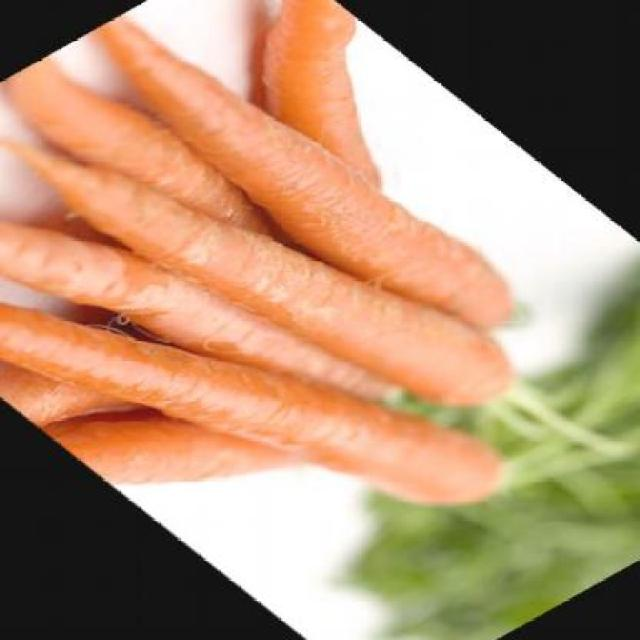carrot: (0, 148, 526, 615), (0, 49, 540, 466), (60, 0, 546, 357), (0, 82, 392, 491), (0, 46, 297, 277), (155, 0, 496, 197), (44, 358, 305, 537), (0, 330, 151, 452)
